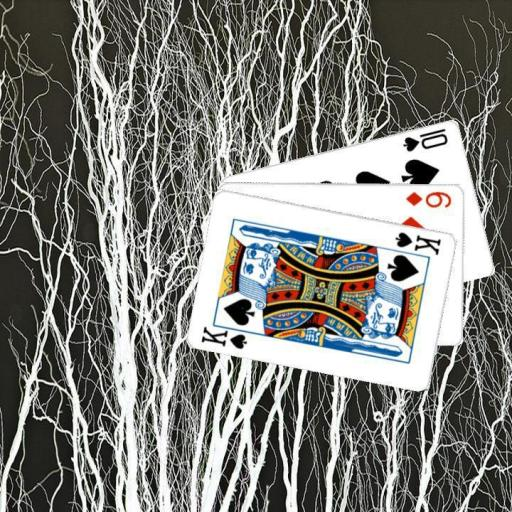card-corner: (198, 319, 256, 351), (400, 124, 450, 153), (392, 228, 443, 256), (403, 188, 454, 208)
